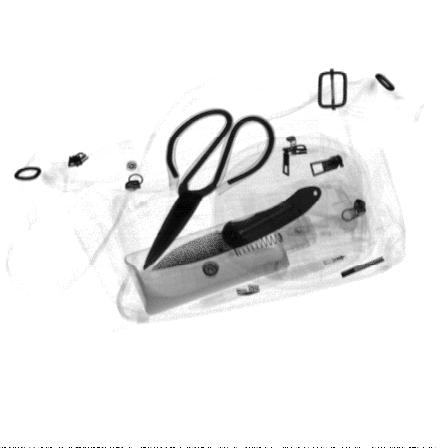Knife: (150, 185, 324, 271)
Scissors: (142, 109, 277, 268)
